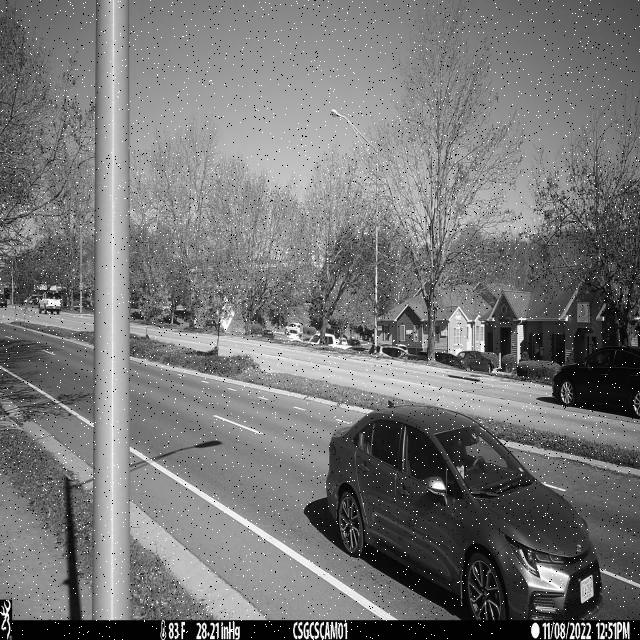Sedan: (327, 402, 605, 621)
